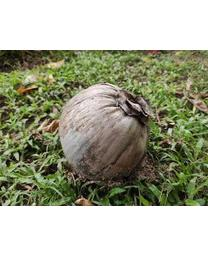coconut: (55, 85, 155, 189)
